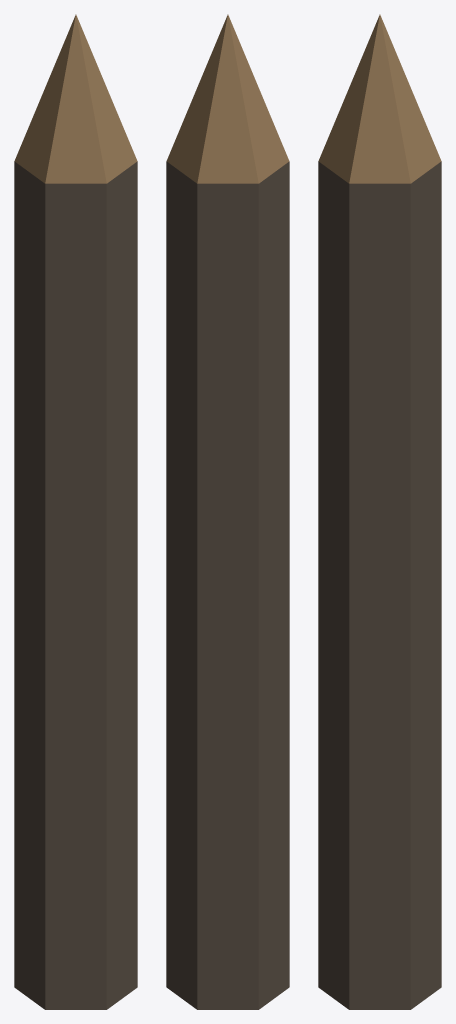
The model's file is Wooden_Spear_04.fbx.
The picture shows the model from 3 angles, left to right: view 1: azimuth 90°, elevation 25°; view 2: azimuth 210°, elevation 25°; view 3: azimuth 270°, elevation 25°; orthographic projection.
Visible parts, largest first — view 1: Wooden_Spear; view 2: Wooden_Spear; view 3: Wooden_Spear.
Boxes of the visible parts, bbox=[...] form: Wooden_Spear: bbox=[14, 14, 137, 1009]; Wooden_Spear: bbox=[166, 14, 289, 1009]; Wooden_Spear: bbox=[318, 14, 441, 1009].
Size of the model in its own units: 6.4 by 64.57 by 7.41.
